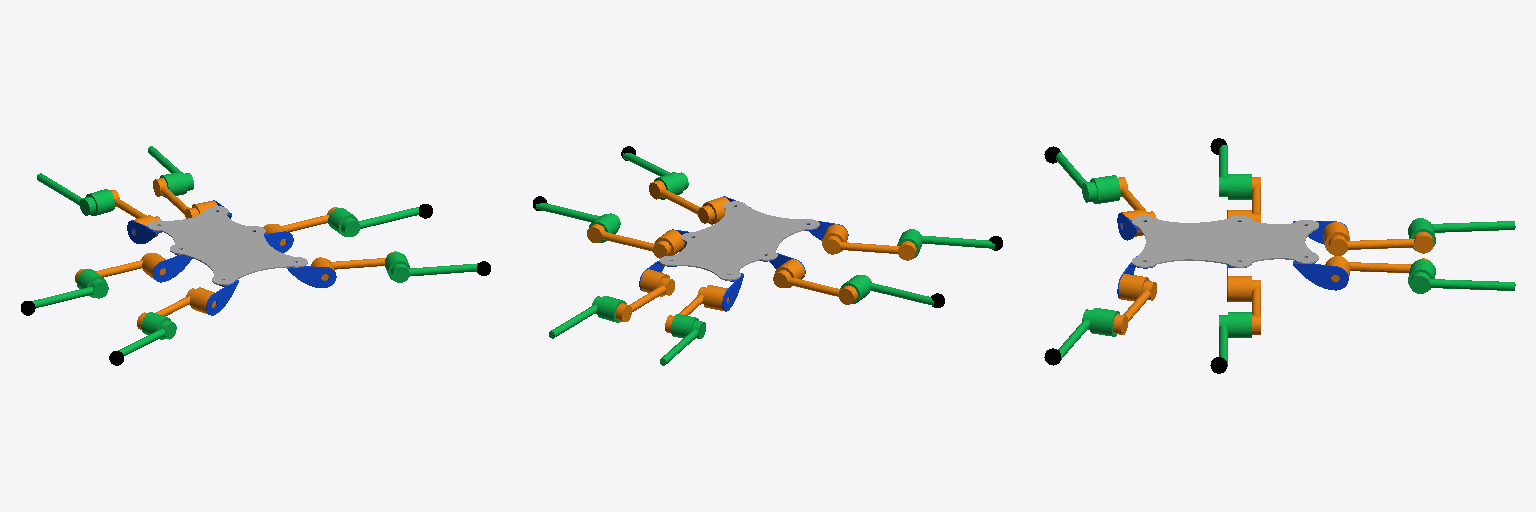
robot.urdf — insectoid_mini_quad:
<?xml version='1.0' encoding='utf-8'?>
<robot name="insectoid_mini_quad">
  <material name="base_gray">
    <color rgba="0.7 0.7 0.7 1.0" />
  </material>
  <material name="coxa_blue">
    <color rgba="0.1 0.35 0.95 1.0" />
  </material>
  <material name="femur_orange">
    <color rgba="0.95 0.55 0.1 1.0" />
  </material>
  <material name="tibia_green">
    <color rgba="0.1 0.75 0.35 1.0" />
  </material>
  <link name="base_link">
    <inertial>
      <origin xyz="-3.74148352e-08 -0.0335873321 -0.000500000024" rpy="0 0 0" />
      <mass value="1.7466509123337282" />
      <inertia ixx="1.973799511e-02" iyy="6.783734695e-03" izz="2.651910983e-02" ixy="1.186337684e-08" iyz="-0.000000000e+00" ixz="1.412592622e-21" />
    </inertial>
    <visual>
      <origin xyz="0 0 0" rpy="0 0 0" />
      <geometry>
        <mesh filename="../meshes_local/base_link.stl" scale="1 1 1" />
      </geometry>
      <material name="base_gray" />
    </visual>
    <collision>
      <origin xyz="0 0 0" rpy="0 0 0" />
      <geometry>
        <mesh filename="../meshes_local/base_link.stl" scale="1 1 1" />
      </geometry>
    </collision>
  </link>
  <link name="BR_coxa_1">
    <inertial>
      <origin xyz="0.0174724003 -0.0251881399 -0.0173084228" rpy="0 0 0" />
      <mass value="0.2" />
      <inertia ixx="1.431842143e-04" iyy="2.086968968e-04" izz="2.383329723e-04" ixy="8.639505712e-05" iyz="-4.726484745e-05" ixz="5.567881012e-05" />
    </inertial>
    <visual>
      <origin xyz="0 0 0" rpy="0 0 0" />
      <geometry>
        <mesh filename="../meshes_local/BR_coxa_1.stl" scale="1 1 1" />
      </geometry>
      <material name="coxa_blue" />
    </visual>
    <collision>
      <origin xyz="0 0 0" rpy="0 0 0" />
      <geometry>
        <mesh filename="../meshes_local/BR_coxa_1.stl" scale="1 1 1" />
      </geometry>
    </collision>
  </link>
  <link name="BR_femur_1">
    <inertial>
      <origin xyz="0.0399394064 -3.23031878e-09 0.0398861649" rpy="0 0 0" />
      <mass value="0.4" />
      <inertia ixx="2.237618991e-04" iyy="1.966979249e-03" izz="1.852818261e-03" ixy="1.455249086e-11" iyz="1.187388097e-11" ixz="-3.137347482e-04" />
    </inertial>
    <visual>
      <origin xyz="0 0 0" rpy="0 0 0" />
      <geometry>
        <mesh filename="../meshes_local/BR_femur_1.stl" scale="1 1 1" />
      </geometry>
      <material name="femur_orange" />
    </visual>
    <collision>
      <origin xyz="0 0 0" rpy="0 0 0" />
      <geometry>
        <mesh filename="../meshes_local/BR_femur_1.stl" scale="1 1 1" />
      </geometry>
    </collision>
  </link>
  <link name="BR_tibia_1">
    <inertial>
      <origin xyz="0.0286090859 -3.38812634e-09 -0.0386342352" rpy="0 0 0" />
      <mass value="0.4" />
      <inertia ixx="2.224036613e-04" iyy="1.433207648e-03" izz="1.318893181e-03" ixy="-1.903259057e-11" iyz="9.725077750e-12" ixz="2.391882391e-04" />
    </inertial>
    <visual>
      <origin xyz="0 0 0" rpy="0 0 0" />
      <geometry>
        <mesh filename="../meshes_local/BR_tibia_1.stl" scale="1 1 1" />
      </geometry>
      <material name="tibia_green" />
    </visual>
    <collision>
      <origin xyz="0 0 0" rpy="0 0 0" />
      <geometry>
        <mesh filename="../meshes_local/BR_tibia_1.stl" scale="1 1 1" />
      </geometry>
    </collision>
  </link>
  <link name="MR_coxa_1">
    <inertial>
      <origin xyz="0.0250332744 -0.017693334 -0.0173084474" rpy="0 0 0" />
      <mass value="0.2" />
      <inertia ixx="9.531375785e-05" iyy="2.565684740e-04" izz="2.383342142e-04" ixy="4.512598320e-05" iyz="-2.537076319e-05" ixz="6.848637326e-05" />
    </inertial>
    <visual>
      <origin xyz="0 0 0" rpy="0 0 0" />
      <geometry>
        <mesh filename="../meshes_local/MR_coxa_1.stl" scale="1 1 1" />
      </geometry>
      <material name="coxa_blue" />
    </visual>
    <collision>
      <origin xyz="0 0 0" rpy="0 0 0" />
      <geometry>
        <mesh filename="../meshes_local/MR_coxa_1.stl" scale="1 1 1" />
      </geometry>
    </collision>
  </link>
  <link name="MR_femur_1">
    <inertial>
      <origin xyz="0.0399498686 2.5652951e-09 0.0398905054" rpy="0 0 0" />
      <mass value="0.4" />
      <inertia ixx="2.237499291e-04" iyy="1.966992253e-03" izz="1.852817773e-03" ixy="-7.105018706e-12" iyz="-3.876899760e-12" ixz="-3.137581059e-04" />
    </inertial>
    <visual>
      <origin xyz="0 0 0" rpy="0 0 0" />
      <geometry>
        <mesh filename="../meshes_local/MR_femur_1.stl" scale="1 1 1" />
      </geometry>
      <material name="femur_orange" />
    </visual>
    <collision>
      <origin xyz="0 0 0" rpy="0 0 0" />
      <geometry>
        <mesh filename="../meshes_local/MR_femur_1.stl" scale="1 1 1" />
      </geometry>
    </collision>
  </link>
  <link name="MR_tibia_1">
    <inertial>
      <origin xyz="0.0286310756 1.21439141e-09 -0.038638294" rpy="0 0 0" />
      <mass value="0.4" />
      <inertia ixx="2.223598656e-04" iyy="1.433707112e-03" izz="1.319402314e-03" ixy="-1.985501408e-11" iyz="1.151099654e-11" ixz="2.392034435e-04" />
    </inertial>
    <visual>
      <origin xyz="0 0 0" rpy="0 0 0" />
      <geometry>
        <mesh filename="../meshes_local/MR_tibia_1.stl" scale="1 1 1" />
      </geometry>
      <material name="tibia_green" />
    </visual>
    <collision>
      <origin xyz="0 0 0" rpy="0 0 0" />
      <geometry>
        <mesh filename="../meshes_local/MR_tibia_1.stl" scale="1 1 1" />
      </geometry>
    </collision>
  </link>
  <link name="FR_coxa_1">
    <inertial>
      <origin xyz="0.0301651128 -0.00545606018 -0.0173083025" rpy="0 0 0" />
      <mass value="0.2" />
      <inertia ixx="8.954596894e-05" iyy="2.623350658e-04" izz="2.383333272e-04" ixy="-3.275702200e-05" iyz="5.949608964e-06" ixz="7.279175493e-05" />
    </inertial>
    <visual>
      <origin xyz="0 0 0" rpy="0 0 0" />
      <geometry>
        <mesh filename="../meshes_local/FR_coxa_1.stl" scale="1 1 1" />
      </geometry>
      <material name="coxa_blue" />
    </visual>
    <collision>
      <origin xyz="0 0 0" rpy="0 0 0" />
      <geometry>
        <mesh filename="../meshes_local/FR_coxa_1.stl" scale="1 1 1" />
      </geometry>
    </collision>
  </link>
  <link name="FR_femur_1">
    <inertial>
      <origin xyz="0.0399369142 -3.12524358e-09 0.0398875495" rpy="0 0 0" />
      <mass value="0.4" />
      <inertia ixx="2.237799607e-04" iyy="1.966936926e-03" izz="1.852751278e-03" ixy="3.121504789e-11" iyz="3.757924292e-12" ixz="-3.137846530e-04" />
    </inertial>
    <visual>
      <origin xyz="0 0 0" rpy="0 0 0" />
      <geometry>
        <mesh filename="../meshes_local/FR_femur_1.stl" scale="1 1 1" />
      </geometry>
      <material name="femur_orange" />
    </visual>
    <collision>
      <origin xyz="0 0 0" rpy="0 0 0" />
      <geometry>
        <mesh filename="../meshes_local/FR_femur_1.stl" scale="1 1 1" />
      </geometry>
    </collision>
  </link>
  <link name="FR_tibia_1">
    <inertial>
      <origin xyz="0.028611631 -2.94783833e-09 -0.0386333681" rpy="0 0 0" />
      <mass value="0.4" />
      <inertia ixx="2.223840208e-04" iyy="1.433231779e-03" izz="1.318930991e-03" ixy="-1.767018146e-11" iyz="8.693610382e-12" ixz="2.391527301e-04" />
    </inertial>
    <visual>
      <origin xyz="0 0 0" rpy="0 0 0" />
      <geometry>
        <mesh filename="../meshes_local/FR_tibia_1.stl" scale="1 1 1" />
      </geometry>
      <material name="tibia_green" />
    </visual>
    <collision>
      <origin xyz="0 0 0" rpy="0 0 0" />
      <geometry>
        <mesh filename="../meshes_local/FR_tibia_1.stl" scale="1 1 1" />
      </geometry>
    </collision>
  </link>
  <link name="FL_coxa_1">
    <inertial>
      <origin xyz="-0.0301601029 0.00548089471 0.0173635886" rpy="0 0 0" />
      <mass value="0.2" />
      <inertia ixx="8.981926071e-05" iyy="2.623460955e-04" izz="2.381311181e-04" ixy="-3.281304969e-05" iyz="5.908634275e-06" ixz="7.277343443e-05" />
    </inertial>
    <visual>
      <origin xyz="0 0 0" rpy="0 0 0" />
      <geometry>
        <mesh filename="../meshes_local/FL_coxa_1.stl" scale="1 1 1" />
      </geometry>
      <material name="coxa_blue" />
    </visual>
    <collision>
      <origin xyz="0 0 0" rpy="0 0 0" />
      <geometry>
        <mesh filename="../meshes_local/FL_coxa_1.stl" scale="1 1 1" />
      </geometry>
    </collision>
  </link>
  <link name="FL_femur_1">
    <inertial>
      <origin xyz="-0.0399455433 2.73232724e-09 -0.0398907692" rpy="0 0 0" />
      <mass value="0.4" />
      <inertia ixx="2.237657366e-04" iyy="1.967161376e-03" izz="1.852948377e-03" ixy="2.544489621e-11" iyz="1.439882005e-11" ixz="-3.138010244e-04" />
    </inertial>
    <visual>
      <origin xyz="0 0 0" rpy="0 0 0" />
      <geometry>
        <mesh filename="../meshes_local/FL_femur_1.stl" scale="1 1 1" />
      </geometry>
      <material name="femur_orange" />
    </visual>
    <collision>
      <origin xyz="0 0 0" rpy="0 0 0" />
      <geometry>
        <mesh filename="../meshes_local/FL_femur_1.stl" scale="1 1 1" />
      </geometry>
    </collision>
  </link>
  <link name="FL_tibia_1">
    <inertial>
      <origin xyz="-0.0286182111 3.26802245e-09 0.0386365045" rpy="0 0 0" />
      <mass value="0.4" />
      <inertia ixx="2.223718624e-04" iyy="1.433422814e-03" izz="1.319089614e-03" ixy="-1.514110976e-11" iyz="-4.145343711e-12" ixz="2.391718310e-04" />
    </inertial>
    <visual>
      <origin xyz="0 0 0" rpy="0 0 0" />
      <geometry>
        <mesh filename="../meshes_local/FL_tibia_1.stl" scale="1 1 1" />
      </geometry>
      <material name="tibia_green" />
    </visual>
    <collision>
      <origin xyz="0 0 0" rpy="0 0 0" />
      <geometry>
        <mesh filename="../meshes_local/FL_tibia_1.stl" scale="1 1 1" />
      </geometry>
    </collision>
  </link>
  <link name="ML_coxa_1">
    <inertial>
      <origin xyz="-0.0250041783 0.0176996033 0.0173077963" rpy="0 0 0" />
      <mass value="0.2" />
      <inertia ixx="9.525554860e-05" iyy="2.566037406e-04" izz="2.383926999e-04" ixy="4.504307076e-05" iyz="-2.535091201e-05" ixz="6.843876299e-05" />
    </inertial>
    <visual>
      <origin xyz="0 0 0" rpy="0 0 0" />
      <geometry>
        <mesh filename="../meshes_local/ML_coxa_1.stl" scale="1 1 1" />
      </geometry>
      <material name="coxa_blue" />
    </visual>
    <collision>
      <origin xyz="0 0 0" rpy="0 0 0" />
      <geometry>
        <mesh filename="../meshes_local/ML_coxa_1.stl" scale="1 1 1" />
      </geometry>
    </collision>
  </link>
  <link name="ML_femur_1">
    <inertial>
      <origin xyz="-0.0399498686 1.55668306e-09 -0.0398905056" rpy="0 0 0" />
      <mass value="0.4" />
      <inertia ixx="2.237499423e-04" iyy="1.966992345e-03" izz="1.852817858e-03" ixy="-1.460680668e-11" iyz="-5.168658529e-12" ixz="-3.137581028e-04" />
    </inertial>
    <visual>
      <origin xyz="0 0 0" rpy="0 0 0" />
      <geometry>
        <mesh filename="../meshes_local/ML_femur_1.stl" scale="1 1 1" />
      </geometry>
      <material name="femur_orange" />
    </visual>
    <collision>
      <origin xyz="0 0 0" rpy="0 0 0" />
      <geometry>
        <mesh filename="../meshes_local/ML_femur_1.stl" scale="1 1 1" />
      </geometry>
    </collision>
  </link>
  <link name="ML_tibia_1">
    <inertial>
      <origin xyz="-0.0286310742 2.62215454e-09 0.0386382944" rpy="0 0 0" />
      <mass value="0.4" />
      <inertia ixx="2.223598620e-04" iyy="1.433707024e-03" izz="1.319402234e-03" ixy="-7.533972858e-12" iyz="1.021659765e-11" ixz="2.392034275e-04" />
    </inertial>
    <visual>
      <origin xyz="0 0 0" rpy="0 0 0" />
      <geometry>
        <mesh filename="../meshes_local/ML_tibia_1.stl" scale="1 1 1" />
      </geometry>
      <material name="tibia_green" />
    </visual>
    <collision>
      <origin xyz="0 0 0" rpy="0 0 0" />
      <geometry>
        <mesh filename="../meshes_local/ML_tibia_1.stl" scale="1 1 1" />
      </geometry>
    </collision>
  </link>
  <link name="BL_coxa_1">
    <inertial>
      <origin xyz="-0.0174431819 0.0251841226 0.0173078081" rpy="0 0 0" />
      <mass value="0.2" />
      <inertia ixx="1.430844245e-04" iyy="2.087734003e-04" izz="2.383904692e-04" ixy="8.636172467e-05" iyz="-4.723015295e-05" ixz="5.564091896e-05" />
    </inertial>
    <visual>
      <origin xyz="0 0 0" rpy="0 0 0" />
      <geometry>
        <mesh filename="../meshes_local/BL_coxa_1.stl" scale="1 1 1" />
      </geometry>
      <material name="coxa_blue" />
    </visual>
    <collision>
      <origin xyz="0 0 0" rpy="0 0 0" />
      <geometry>
        <mesh filename="../meshes_local/BL_coxa_1.stl" scale="1 1 1" />
      </geometry>
    </collision>
  </link>
  <link name="BL_femur_1">
    <inertial>
      <origin xyz="-0.0399394055 2.31821789e-09 -0.0398861642" rpy="0 0 0" />
      <mass value="0.4" />
      <inertia ixx="2.237619015e-04" iyy="1.966979303e-03" izz="1.852818316e-03" ixy="2.263410033e-11" iyz="3.000234721e-12" ixz="-3.137347594e-04" />
    </inertial>
    <visual>
      <origin xyz="0 0 0" rpy="0 0 0" />
      <geometry>
        <mesh filename="../meshes_local/BL_femur_1.stl" scale="1 1 1" />
      </geometry>
      <material name="femur_orange" />
    </visual>
    <collision>
      <origin xyz="0 0 0" rpy="0 0 0" />
      <geometry>
        <mesh filename="../meshes_local/BL_femur_1.stl" scale="1 1 1" />
      </geometry>
    </collision>
  </link>
  <link name="BL_tibia_1">
    <inertial>
      <origin xyz="-0.0286090845 3.39374126e-09 0.0386342348" rpy="0 0 0" />
      <mass value="0.4" />
      <inertia ixx="2.224036571e-04" iyy="1.433207567e-03" izz="1.318893103e-03" ixy="-1.482401532e-11" iyz="1.522838837e-12" ixz="2.391882394e-04" />
    </inertial>
    <visual>
      <origin xyz="0 0 0" rpy="0 0 0" />
      <geometry>
        <mesh filename="../meshes_local/BL_tibia_1.stl" scale="1 1 1" />
      </geometry>
      <material name="tibia_green" />
    </visual>
    <collision>
      <origin xyz="0 0 0" rpy="0 0 0" />
      <geometry>
        <mesh filename="../meshes_local/BL_tibia_1.stl" scale="1 1 1" />
      </geometry>
    </collision>
  </link>
  <joint name="BR_coxa_joint" type="revolute">
    <origin xyz="0.1 -0.2 -0.002" rpy="0 -0 0" />
    <parent link="base_link" />
    <child link="BR_coxa_1" />
    <axis xyz="0 0 1" />
    <limit lower="-1.047198" upper="1.047198" effort="24.0" velocity="5.445427" />
    <dynamics damping="0.1" friction="0.01" />
  </joint>
  <joint name="BR_femur_joint" type="revolute">
    <origin xyz="0.052707 -0.045235 -0.0315" rpy="-1.57079633 -0 -0.349044398" />
    <parent link="BR_coxa_1" />
    <child link="BR_femur_1" />
    <axis xyz="0 0 1" />
    <limit lower="-1.221730" upper="0.000000" effort="24.0" velocity="5.445427" />
    <dynamics damping="0.1" friction="0.01" />
  </joint>
  <joint name="BR_tibia_joint" type="revolute">
    <origin xyz="0.180001376 0 0.0499962435" rpy="0 1.5891251e-16 0" />
    <parent link="BR_femur_1" />
    <child link="BR_tibia_1" />
    <axis xyz="0 0 1" />
    <limit lower="0.000000" upper="2.617994" effort="24.0" velocity="5.445427" />
    <dynamics damping="0.1" friction="0.01" />
  </joint>
  <joint name="MR_coxa_joint" type="revolute">
    <origin xyz="0.1 0 -0.002" rpy="0 -0 0" />
    <parent link="base_link" />
    <child link="MR_coxa_1" />
    <axis xyz="0 0 1" />
    <limit lower="-1.047198" upper="1.047198" effort="24.0" velocity="5.445427" />
    <dynamics damping="0.1" friction="0.01" />
  </joint>
  <joint name="MR_femur_joint" type="revolute">
    <origin xyz="0.065 -0.02448 -0.0315" rpy="-1.57079633 -0 0" />
    <parent link="MR_coxa_1" />
    <child link="MR_femur_1" />
    <axis xyz="0 0 1" />
    <limit lower="-1.221730" upper="0.000000" effort="24.0" velocity="5.445427" />
    <dynamics damping="0.1" friction="0.01" />
  </joint>
  <joint name="MR_tibia_joint" type="revolute">
    <origin xyz="0.18 0 0.05" rpy="0 -0 0" />
    <parent link="MR_femur_1" />
    <child link="MR_tibia_1" />
    <axis xyz="0 0 1" />
    <limit lower="0.000000" upper="2.617994" effort="24.0" velocity="5.445427" />
    <dynamics damping="0.1" friction="0.01" />
  </joint>
  <joint name="FR_coxa_joint" type="fixed">
    <origin xyz="0.08 0.14 -0.002" rpy="0 -0 1.047197551" />
    <parent link="base_link" />
    <child link="FR_coxa_1" />
  </joint>
  <joint name="FR_femur_joint" type="fixed">
    <origin xyz="0.069256 0.005284 -0.0315" rpy="-1.57079633 -0 0.436319053" />
    <parent link="FR_coxa_1" />
    <child link="FR_femur_1" />
  </joint>
  <joint name="FR_tibia_joint" type="fixed">
    <origin xyz="0.179998608 0 0.0500019802" rpy="0 -2.33756987e-17 0" />
    <parent link="FR_femur_1" />
    <child link="FR_tibia_1" />
  </joint>
  <joint name="FL_coxa_joint" type="fixed">
    <origin xyz="-0.08 0.14 -0.002" rpy="3.141592652 -3.108851958e-09 -1.047197551" />
    <parent link="base_link" />
    <child link="FL_coxa_1" />
  </joint>
  <joint name="FL_femur_joint" type="fixed">
    <origin xyz="-0.069256 -0.005284 0.0315" rpy="-1.57079633 -0 0.436319053" />
    <parent link="FL_coxa_1" />
    <child link="FL_femur_1" />
  </joint>
  <joint name="FL_tibia_joint" type="fixed">
    <origin xyz="-0.179998608 0 -0.0500019802" rpy="0 -2.33756987e-17 0" />
    <parent link="FL_femur_1" />
    <child link="FL_tibia_1" />
  </joint>
  <joint name="ML_coxa_joint" type="revolute">
    <origin xyz="-0.1 0 -0.002" rpy="3.14159265 -0 0" />
    <parent link="base_link" />
    <child link="ML_coxa_1" />
    <axis xyz="0 0 1" />
    <limit lower="-1.047198" upper="1.047198" effort="24.0" velocity="5.445427" />
    <dynamics damping="0.1" friction="0.01" />
  </joint>
  <joint name="ML_femur_joint" type="revolute">
    <origin xyz="-0.065 0.02448 0.0315" rpy="-1.57079633 -0 0" />
    <parent link="ML_coxa_1" />
    <child link="ML_femur_1" />
    <axis xyz="0 0 1" />
    <limit lower="-1.221730" upper="0.000000" effort="24.0" velocity="5.445427" />
    <dynamics damping="0.1" friction="0.01" />
  </joint>
  <joint name="ML_tibia_joint" type="revolute">
    <origin xyz="-0.18 0 -0.05" rpy="0 -0 0" />
    <parent link="ML_femur_1" />
    <child link="ML_tibia_1" />
    <axis xyz="0 0 1" />
    <limit lower="0.000000" upper="2.617994" effort="24.0" velocity="5.445427" />
    <dynamics damping="0.1" friction="0.01" />
  </joint>
  <joint name="BL_coxa_joint" type="revolute">
    <origin xyz="-0.1 -0.2 -0.002" rpy="3.14159265 -0 0" />
    <parent link="base_link" />
    <child link="BL_coxa_1" />
    <axis xyz="0 0 1" />
    <limit lower="-1.047198" upper="1.047198" effort="24.0" velocity="5.445427" />
    <dynamics damping="0.1" friction="0.01" />
  </joint>
  <joint name="BL_femur_joint" type="revolute">
    <origin xyz="-0.052707 0.045235 0.0315" rpy="-1.57079633 -0 -0.349044398" />
    <parent link="BL_coxa_1" />
    <child link="BL_femur_1" />
    <axis xyz="0 0 1" />
    <limit lower="-1.221730" upper="0.000000" effort="24.0" velocity="5.445427" />
    <dynamics damping="0.1" friction="0.01" />
  </joint>
  <joint name="BL_tibia_joint" type="revolute">
    <origin xyz="-0.180001376 0 -0.0499962435" rpy="0 1.5891251e-16 0" />
    <parent link="BL_femur_1" />
    <child link="BL_tibia_1" />
    <axis xyz="0 0 1" />
    <limit lower="0.000000" upper="2.617994" effort="24.0" velocity="5.445427" />
    <dynamics damping="0.1" friction="0.01" />
  </joint>
  <material name="foot_black">
    <color rgba="0.02 0.02 0.02 1" />
  </material>
  <link name="BL_FOOT">
    <inertial>
      <origin xyz="0 0 0" rpy="0 0 0" />
      <mass value="0.02" />
      <inertia ixx="2.592e-06" iyy="2.592e-06" izz="2.592e-06" ixy="0" iyz="0" ixz="0" />
    </inertial>
    <visual>
      <origin xyz="0 0 0" rpy="0 0 0" />
      <geometry>
        <sphere radius="0.018" />
      </geometry>
      <material name="foot_black" />
    </visual>
    <collision>
      <origin xyz="0 0 0" rpy="0 0 0" />
      <geometry>
        <sphere radius="0.018" />
      </geometry>
    </collision>
  </link>
  <joint name="BL_foot_fixed_joint" type="fixed">
    <origin xyz="-0.2 0 0.069" rpy="0 0 0" />
    <parent link="BL_tibia_1" />
    <child link="BL_FOOT" />
  </joint>
  <link name="BR_FOOT">
    <inertial>
      <origin xyz="0 0 0" rpy="0 0 0" />
      <mass value="0.02" />
      <inertia ixx="2.592e-06" iyy="2.592e-06" izz="2.592e-06" ixy="0" iyz="0" ixz="0" />
    </inertial>
    <visual>
      <origin xyz="0 0 0" rpy="0 0 0" />
      <geometry>
        <sphere radius="0.018" />
      </geometry>
      <material name="foot_black" />
    </visual>
    <collision>
      <origin xyz="0 0 0" rpy="0 0 0" />
      <geometry>
        <sphere radius="0.018" />
      </geometry>
    </collision>
  </link>
  <joint name="BR_foot_fixed_joint" type="fixed">
    <origin xyz="0.2 0 -0.069" rpy="0 0 0" />
    <parent link="BR_tibia_1" />
    <child link="BR_FOOT" />
  </joint>
  <link name="ML_FOOT">
    <inertial>
      <origin xyz="0 0 0" rpy="0 0 0" />
      <mass value="0.02" />
      <inertia ixx="2.592e-06" iyy="2.592e-06" izz="2.592e-06" ixy="0" iyz="0" ixz="0" />
    </inertial>
    <visual>
      <origin xyz="0 0 0" rpy="0 0 0" />
      <geometry>
        <sphere radius="0.018" />
      </geometry>
      <material name="foot_black" />
    </visual>
    <collision>
      <origin xyz="0 0 0" rpy="0 0 0" />
      <geometry>
        <sphere radius="0.018" />
      </geometry>
    </collision>
  </link>
  <joint name="ML_foot_fixed_joint" type="fixed">
    <origin xyz="-0.2 0 0.069" rpy="0 0 0" />
    <parent link="ML_tibia_1" />
    <child link="ML_FOOT" />
  </joint>
  <link name="MR_FOOT">
    <inertial>
      <origin xyz="0 0 0" rpy="0 0 0" />
      <mass value="0.02" />
      <inertia ixx="2.592e-06" iyy="2.592e-06" izz="2.592e-06" ixy="0" iyz="0" ixz="0" />
    </inertial>
    <visual>
      <origin xyz="0 0 0" rpy="0 0 0" />
      <geometry>
        <sphere radius="0.018" />
      </geometry>
      <material name="foot_black" />
    </visual>
    <collision>
      <origin xyz="0 0 0" rpy="0 0 0" />
      <geometry>
        <sphere radius="0.018" />
      </geometry>
    </collision>
  </link>
  <joint name="MR_foot_fixed_joint" type="fixed">
    <origin xyz="0.2 0 -0.069" rpy="0 0 0" />
    <parent link="MR_tibia_1" />
    <child link="MR_FOOT" />
  </joint>
</robot>

--- Render facts (derived) ---
Views: 3 orthographic renders of the robot side by side, from view 1: azimuth 30°, elevation 25°; view 2: azimuth 150°, elevation 25°; view 3: azimuth 270°, elevation 25°.
Model insectoid_mini_quad with 23 links and 22 joints (12 revolute, 10 fixed), rooted at base_link, posed every joint at zero.
Links seen in each view (by area): view 1: base_link, MR_tibia_1, BR_tibia_1, FL_tibia_1, ML_tibia_1, BL_tibia_1, FR_tibia_1, BL_femur_1, ML_femur_1, BR_coxa_1, FR_femur_1, BR_femur_1 (+3 smaller); view 2: base_link, BL_femur_1, MR_femur_1, ML_femur_1, FR_femur_1, BR_femur_1, FL_tibia_1, FR_tibia_1, ML_tibia_1, BL_tibia_1, MR_tibia_1, BR_tibia_1 (+1 smaller); view 3: base_link, FL_femur_1, FR_tibia_1, BR_femur_1, BL_tibia_1, FL_tibia_1, MR_femur_1, BR_tibia_1, ML_tibia_1, MR_tibia_1, FR_coxa_1, FR_femur_1 (+2 smaller).
Boxes of the visible links, <box> form: base_link: <box>147,206,307,284</box>; MR_tibia_1: <box>328,207,418,236</box>; BR_tibia_1: <box>385,252,477,282</box>; FL_tibia_1: <box>37,173,114,215</box>; ML_tibia_1: <box>32,269,108,307</box>; BL_tibia_1: <box>118,312,176,355</box>; FR_tibia_1: <box>148,146,193,197</box>; BL_femur_1: <box>137,287,215,329</box>; ML_femur_1: <box>75,253,165,281</box>; BR_coxa_1: <box>287,262,336,287</box>; FR_femur_1: <box>153,178,217,218</box>; BR_femur_1: <box>311,251,399,280</box>; base_link: <box>659,201,819,280</box>; BL_femur_1: <box>822,224,916,260</box>; MR_femur_1: <box>587,224,684,258</box>; ML_femur_1: <box>773,259,857,304</box>; FR_femur_1: <box>616,269,674,321</box>; BR_femur_1: <box>649,180,729,224</box>; FL_tibia_1: <box>660,314,705,365</box>; FR_tibia_1: <box>549,296,626,338</box>; ML_tibia_1: <box>840,275,933,305</box>; BL_tibia_1: <box>897,229,994,258</box>; MR_tibia_1: <box>536,203,620,242</box>; BR_tibia_1: <box>623,153,688,199</box>; base_link: <box>1132,216,1318,267</box>; FL_femur_1: <box>1323,222,1433,255</box>; FR_tibia_1: <box>1408,259,1515,293</box>; BR_femur_1: <box>1113,274,1156,334</box>; BL_tibia_1: <box>1056,152,1120,203</box>; FL_tibia_1: <box>1408,218,1515,250</box>; MR_femur_1: <box>1228,276,1260,334</box>; BR_tibia_1: <box>1058,308,1119,359</box>; ML_tibia_1: <box>1219,145,1251,199</box>; MR_tibia_1: <box>1219,312,1251,366</box>; FR_coxa_1: <box>1293,261,1348,290</box>; FR_femur_1: <box>1325,256,1432,281</box>.
Size in the robot's own frame: 1.13 by 0.9922 by 0.062 metres.
Meshes: 19 distinct files referenced, 19 mesh visuals loaded (19 binary STL).
